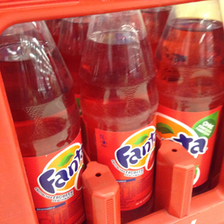soda: (1, 21, 85, 224), (78, 11, 158, 220), (156, 2, 224, 194)
